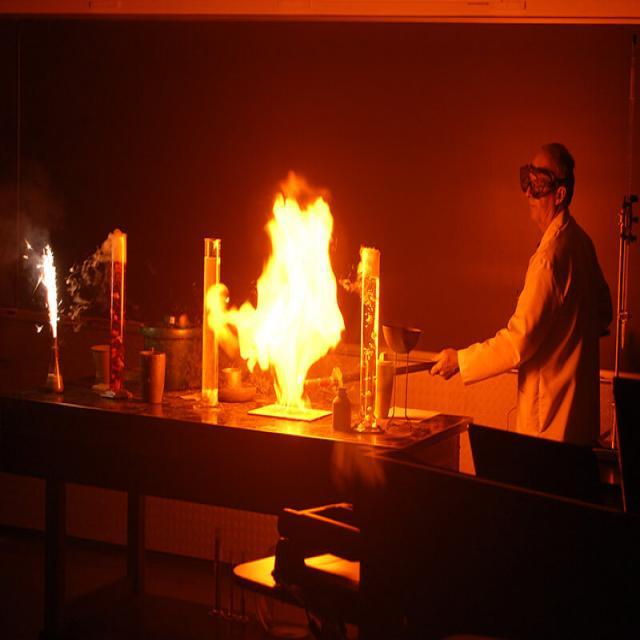Fire: (216, 164, 360, 404)
